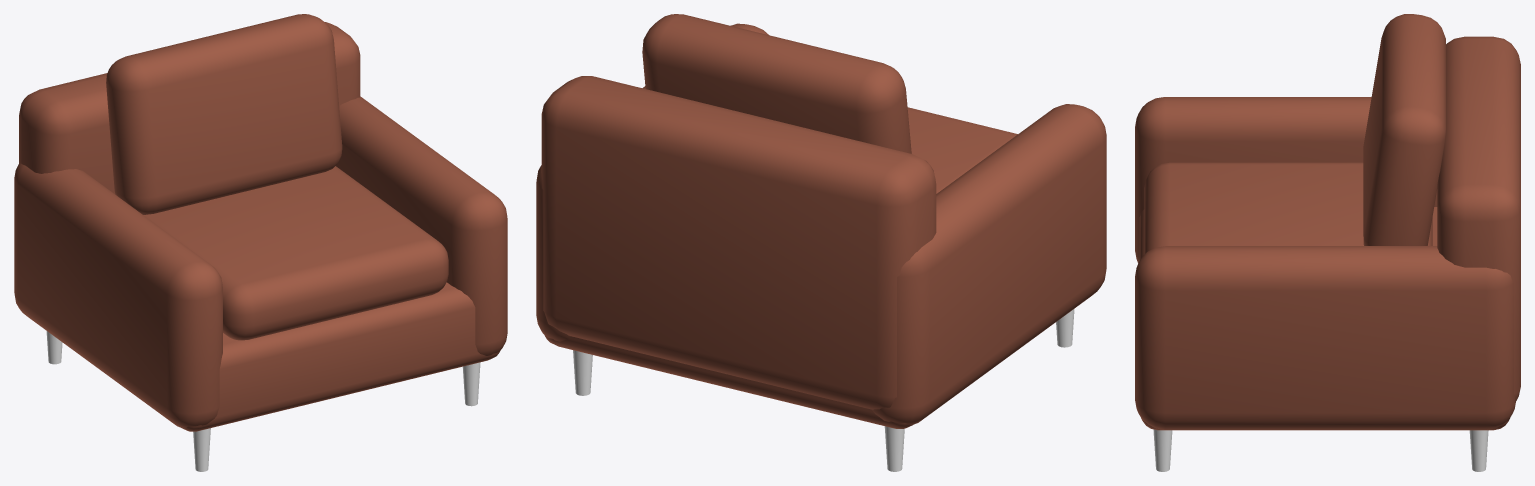
Rendered from poltrona.glb.
3 renders of one model, left to right at view 1: azimuth 30°, elevation 25°; view 2: azimuth 150°, elevation 25°; view 3: azimuth 270°, elevation 25°, orthographic. The views are drawn at different scales.
Visible parts, largest first — view 1: p; view 2: p; view 3: p.
Boxes of the visible parts, box(x1,y1,x2,y2) form: p: box(14, 14, 507, 471); p: box(536, 14, 1106, 471); p: box(1135, 14, 1520, 471).
Bounding box in the file's own units: 0.9 × 0.7994 × 0.83.
